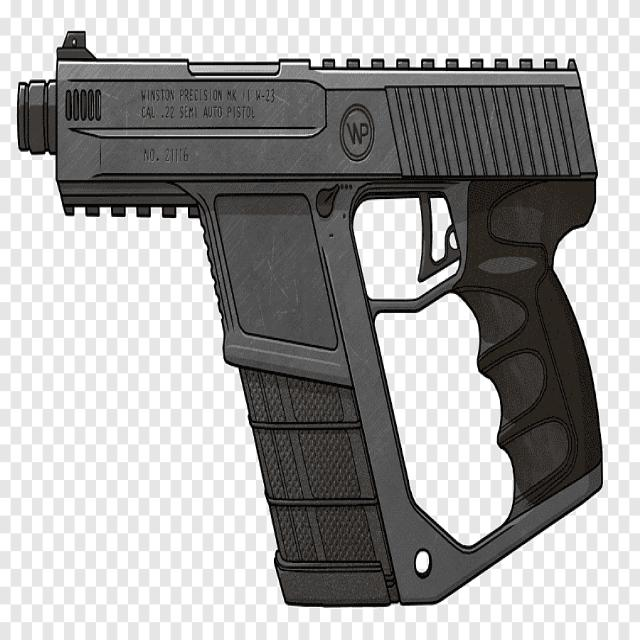pistol: (16, 27, 606, 614)
